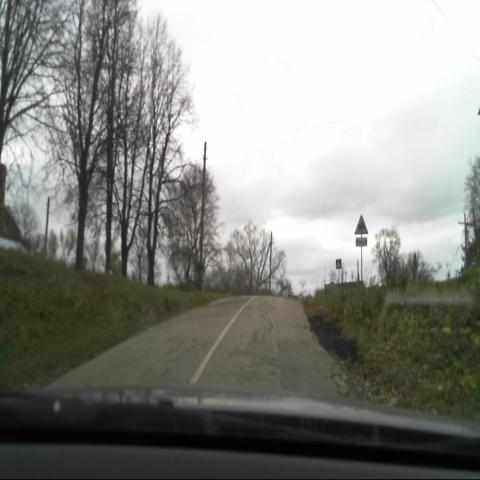1_23: (354, 214, 368, 234)
